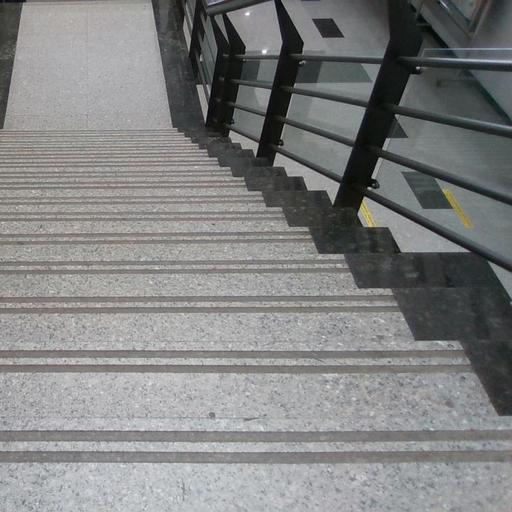stairs: (0, 129, 511, 511)
